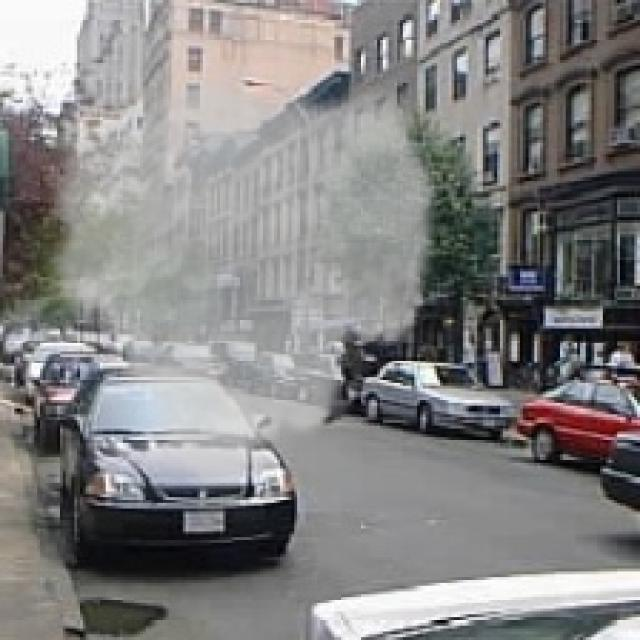Smoke: (37, 72, 446, 494)
